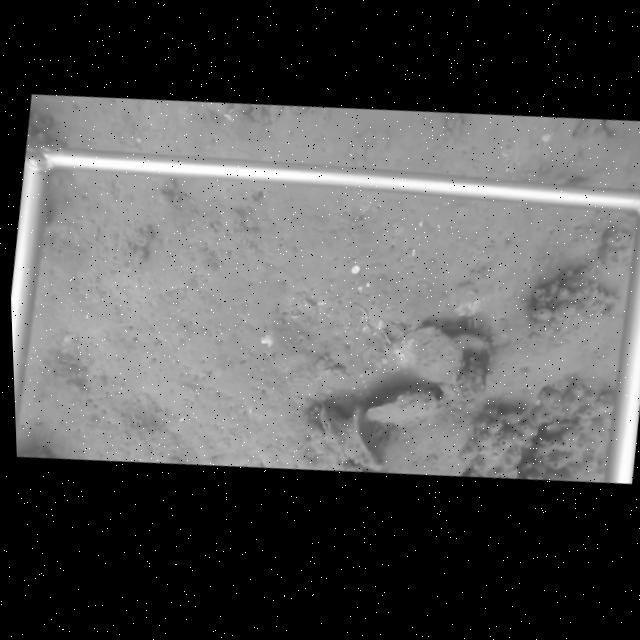Oyster-Closed: (294, 404, 338, 468), (316, 401, 353, 466), (350, 401, 382, 467), (573, 285, 623, 308)
Oyster-Indeterminate: (378, 325, 465, 385), (366, 389, 442, 429)
